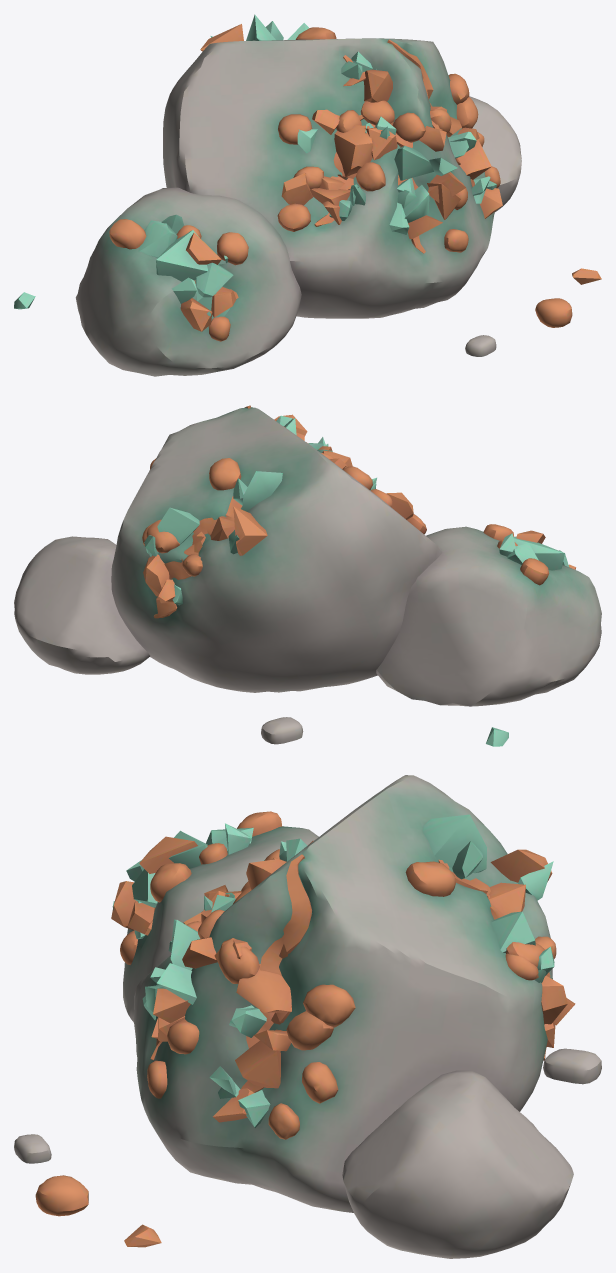
The model's file is copper-ore-rock.glb.
The picture shows the model from 3 angles, top to bottom: view 1: azimuth 30°, elevation 25°; view 2: azimuth 150°, elevation 25°; view 3: azimuth 270°, elevation 25°; orthographic projection. The views are drawn at different scales.
Parts seen in each view (by area): view 1: copper-ore-rock_body; view 2: copper-ore-rock_body; view 3: copper-ore-rock_body.
Boxes of the visible parts, left/top/right/bottom form: copper-ore-rock_body: left=14, top=14, right=601, bottom=376; copper-ore-rock_body: left=14, top=405, right=601, bottom=746; copper-ore-rock_body: left=14, top=775, right=601, bottom=1258.
Bounding box in the file's own units: 1.06 × 0.481 × 0.827.
1 material, 1 textured.
